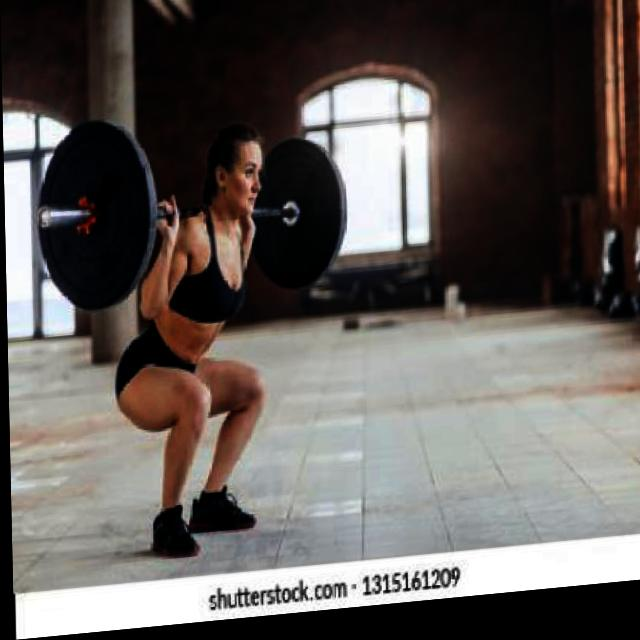barbell: (30, 116, 158, 318)
